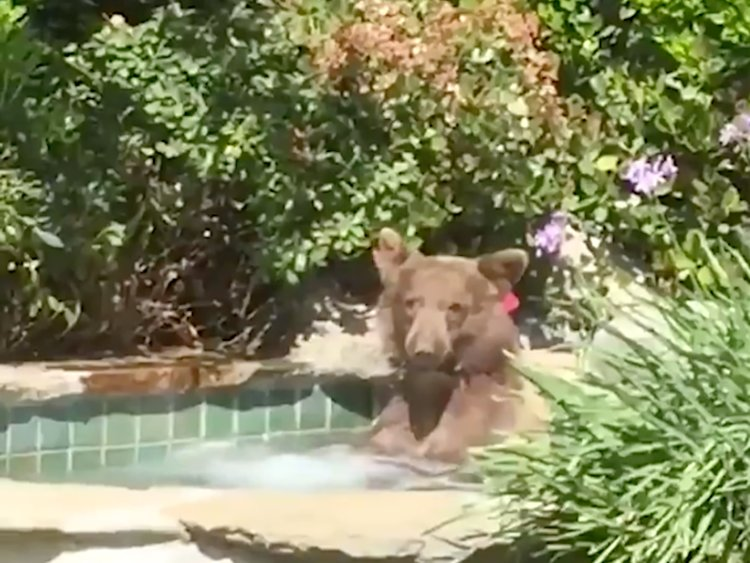bear: (368, 224, 534, 374)
